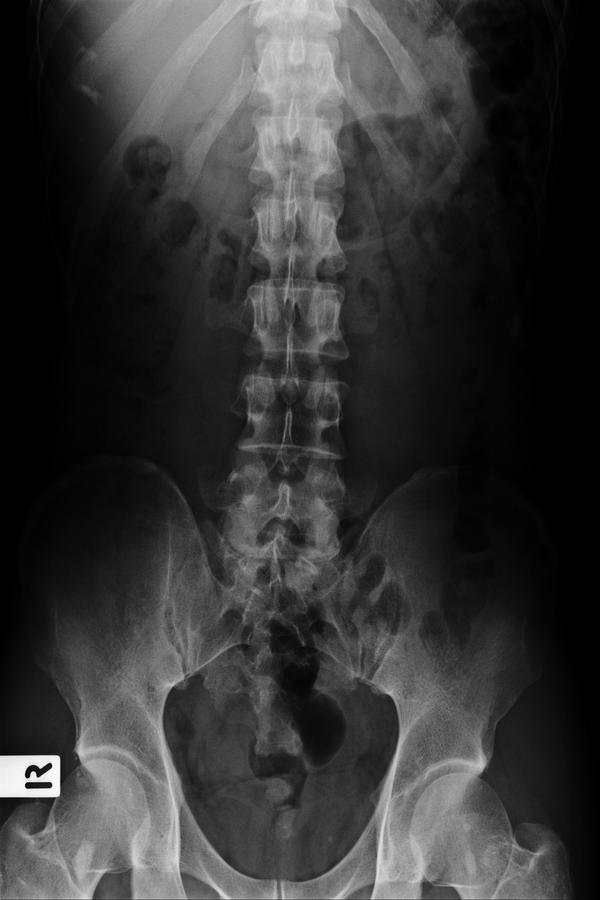lumbar scoliosis: (226, 15, 354, 580)
